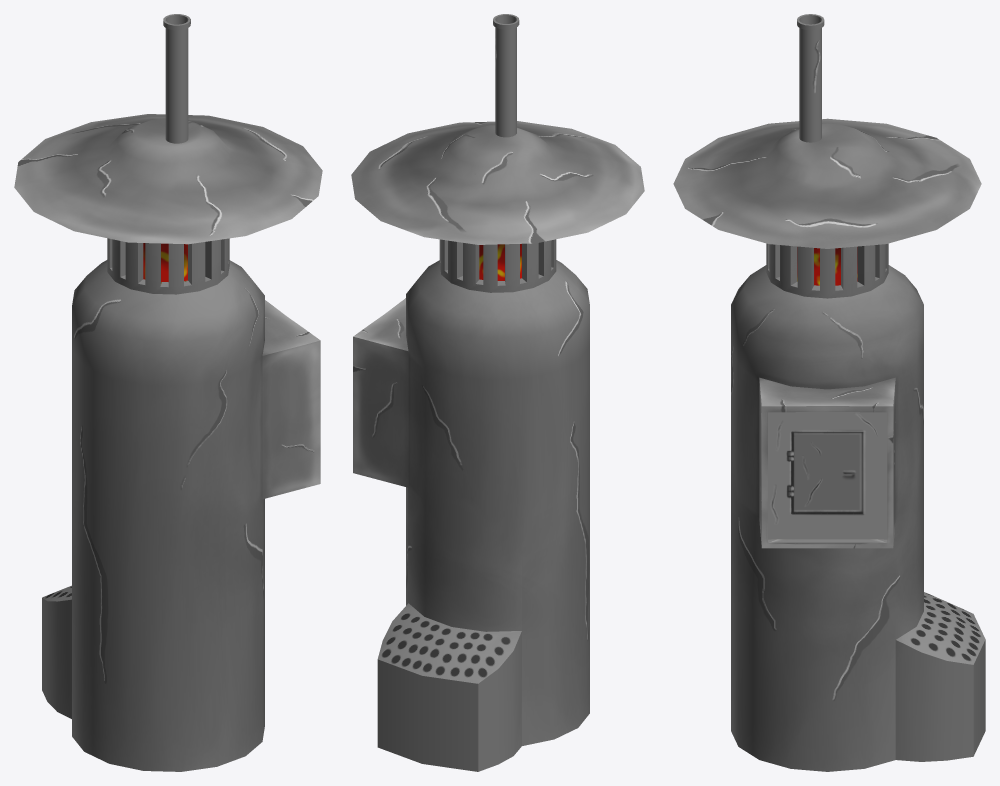
File: melting_machine.fbx
3 renders of one model, left to right at view 1: azimuth 30°, elevation 25°; view 2: azimuth 150°, elevation 25°; view 3: azimuth 270°, elevation 25°, orthographic. The views are drawn at different scales.
Parts seen in each view (by area): view 1: melting_machine; view 2: melting_machine; view 3: melting_machine.
Boxes of the visible parts, x1,y1,x2,y2 form: melting_machine: (14,14,322,771); melting_machine: (351,14,644,771); melting_machine: (673,14,985,771).
Bounding box in the file's own units: 481 × 1224 × 487.
